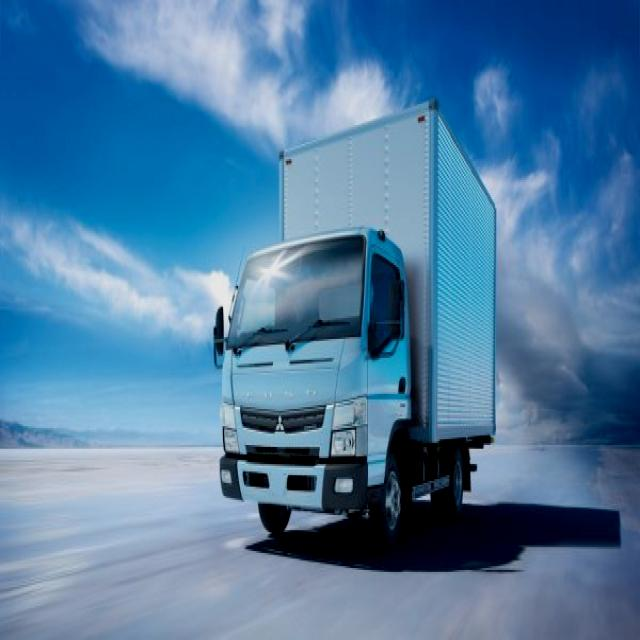truck: (213, 103, 499, 554)
